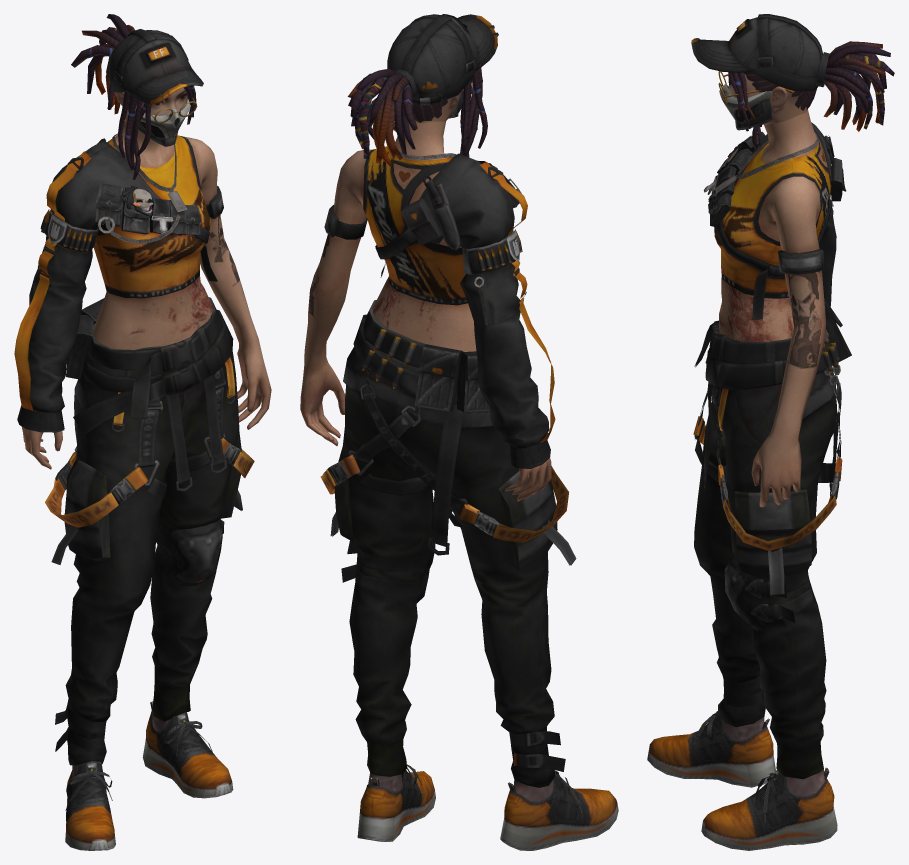
File: booyah F.FBX
3 renders of one model, left to right at view 1: azimuth 30°, elevation 25°; view 2: azimuth 150°, elevation 25°; view 3: azimuth 270°, elevation 25°, orthographic. The views are drawn at different scales.
Parts seen in each view (by area): view 1: Mesh_3119.rip, Mesh_3118.rip; view 2: Mesh_3119.rip, Mesh_3118.rip; view 3: Mesh_3119.rip, Mesh_3118.rip.
Boxes of the visible parts, left/top/right/bottom form: Mesh_3119.rip: left=14, top=14, right=254, bottom=850; Mesh_3118.rip: left=21, top=87, right=271, bottom=469; Mesh_3119.rip: left=320, top=14, right=618, bottom=850; Mesh_3118.rip: left=300, top=91, right=551, bottom=501; Mesh_3119.rip: left=647, top=14, right=894, bottom=850; Mesh_3118.rip: left=719, top=74, right=831, bottom=507.
Size of the model in its own units: 0.7493 by 2.24 by 0.6268.
2 materials, 2 textured.
